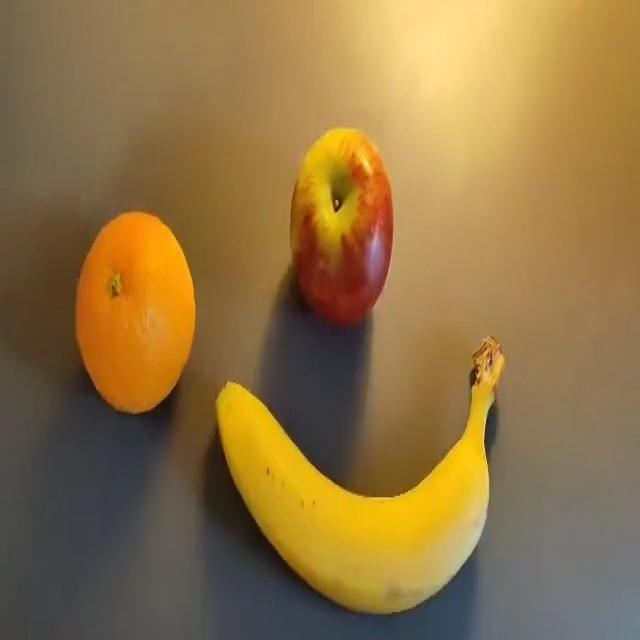Apple: (289, 126, 394, 327)
Banana: (214, 334, 505, 615)
Orange: (74, 210, 196, 414)
